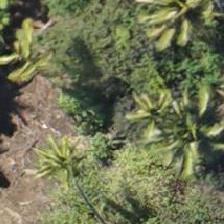coconut_tree: (147, 87, 223, 177)
